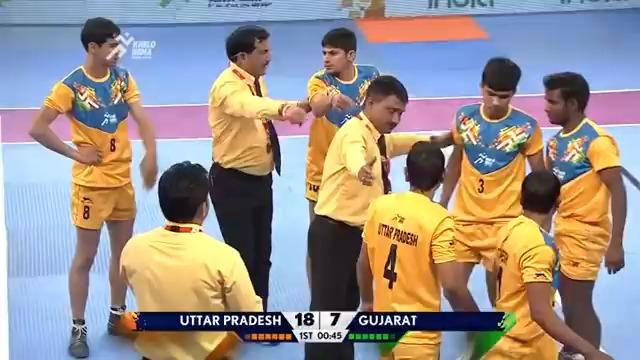Player: (28, 16, 158, 357), (428, 56, 547, 358), (353, 140, 480, 359), (478, 169, 614, 359), (540, 70, 627, 358), (303, 27, 384, 310)
referee: (304, 74, 451, 358), (206, 23, 311, 346), (118, 159, 266, 359)
